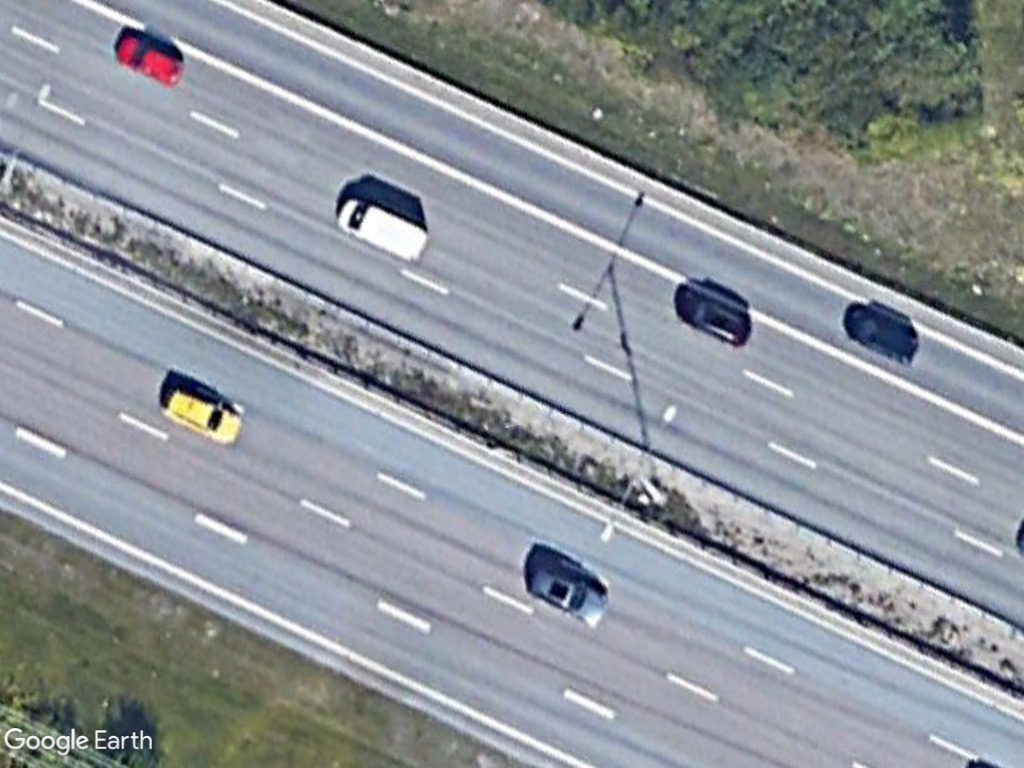car: (523, 550, 616, 630), (838, 296, 930, 372), (157, 379, 249, 449), (675, 285, 760, 352), (104, 28, 193, 91)
van: (332, 194, 433, 269)
